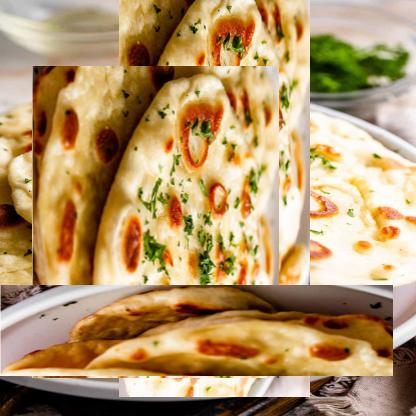naan: (65, 46, 363, 344), (16, 83, 296, 362), (0, 284, 393, 376)
